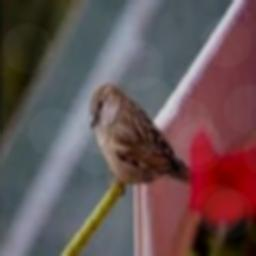Sparrow: (88, 83, 193, 197)
